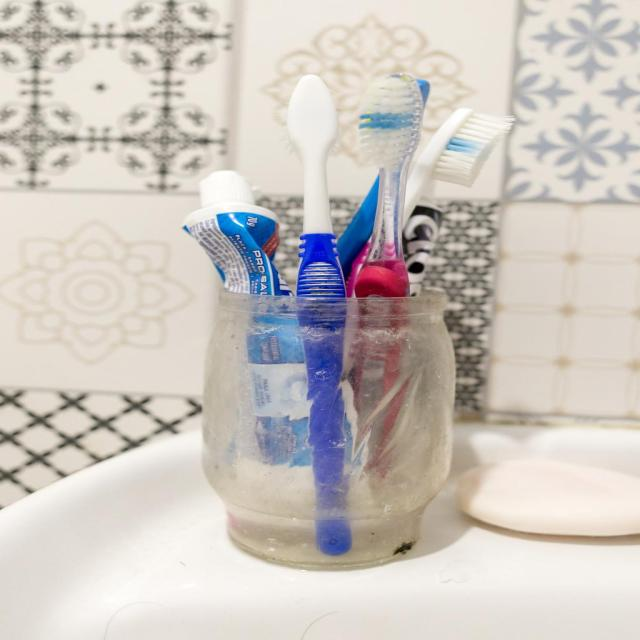Toothpaste: (169, 164, 287, 490)
